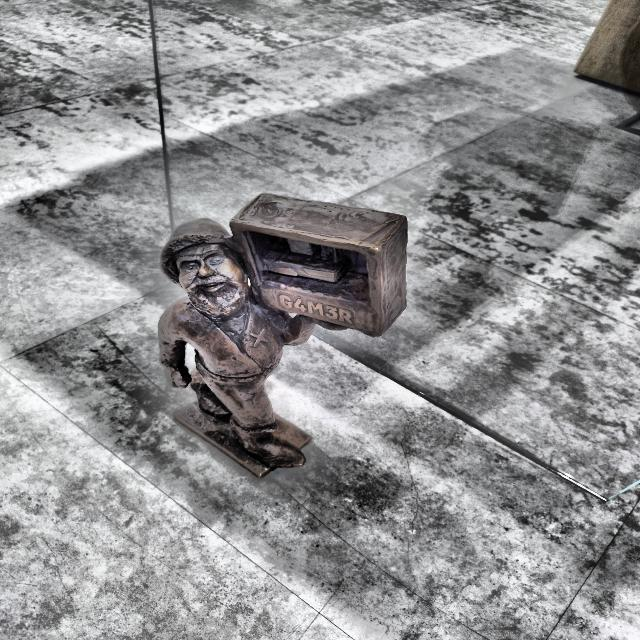GigaHercjusz: (158, 194, 407, 478)
